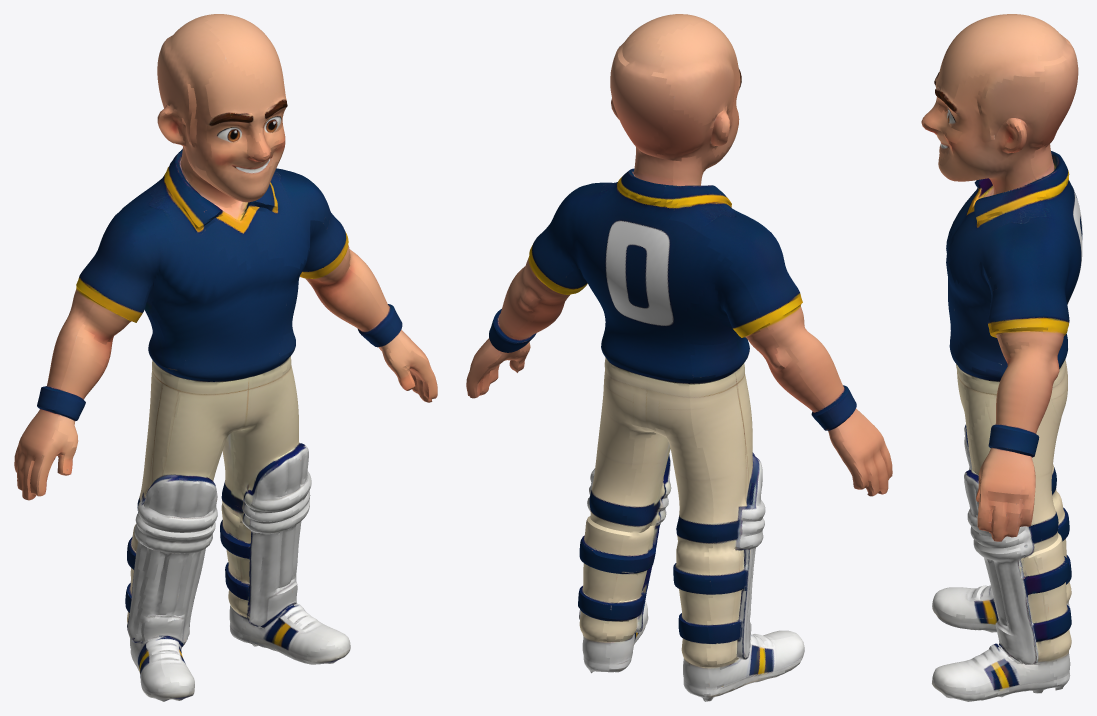
File: meshyA.glb
3 views of the same model, side by side, from view 1: azimuth 30°, elevation 25°; view 2: azimuth 150°, elevation 25°; view 3: azimuth 270°, elevation 25° (orthographic).
Size of the model in its own units: 1.26 by 1.9 by 0.4322.
Materials: 1 (1 with a texture image).
